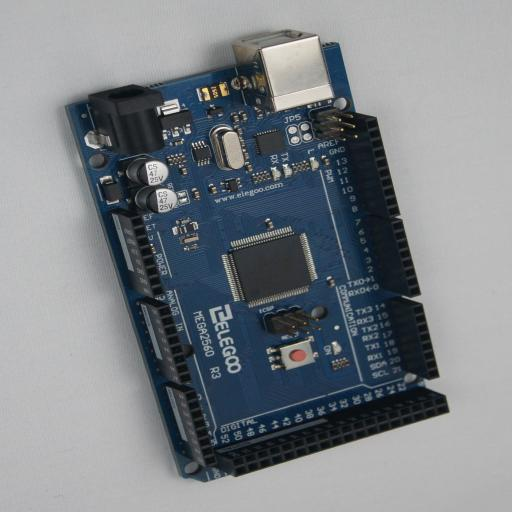Arduino Mega 2560 -Blue-: (65, 31, 449, 482)
